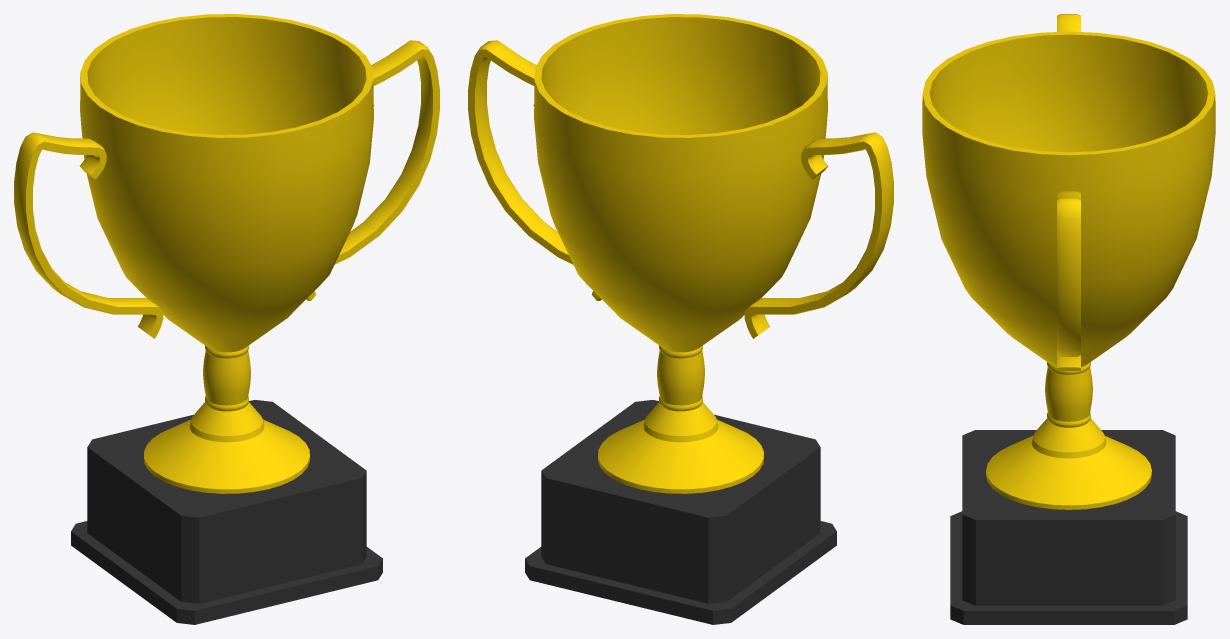
Rendered from trophy.fbx.
The picture shows the model from 3 angles, left to right: view 1: azimuth 30°, elevation 25°; view 2: azimuth 150°, elevation 25°; view 3: azimuth 270°, elevation 25°; orthographic projection.
Parts seen in each view (by area): view 1: trophy; view 2: trophy; view 3: trophy.
Boxes of the visible parts, x1,y1,x2,y2 form: trophy: (14,14,439,624); trophy: (468,14,893,624); trophy: (922,14,1215,624).
Bounding box in the file's own units: 49.05 × 54.3 × 30.
